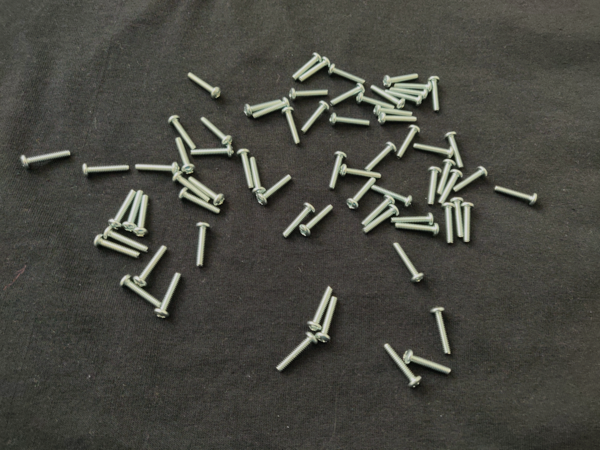longscrew: (276, 331, 319, 375), (384, 343, 423, 389), (133, 246, 169, 288), (119, 275, 162, 310), (154, 272, 183, 320), (392, 242, 425, 284), (403, 349, 453, 376), (172, 171, 212, 204), (103, 226, 149, 254), (307, 285, 334, 332), (282, 203, 316, 240), (188, 175, 227, 207), (179, 187, 222, 216), (299, 203, 334, 238), (94, 234, 141, 260), (361, 204, 400, 235), (430, 307, 454, 357), (107, 189, 136, 230), (361, 195, 396, 228), (315, 296, 339, 344), (256, 174, 292, 206), (371, 184, 415, 209), (168, 115, 198, 151), (346, 177, 377, 211), (364, 141, 398, 172), (300, 101, 331, 135), (187, 71, 222, 101), (200, 117, 234, 147), (19, 150, 72, 169), (495, 184, 540, 206), (252, 96, 291, 121), (438, 169, 465, 205), (453, 166, 489, 193), (122, 190, 144, 233), (291, 52, 323, 81), (330, 83, 367, 108), (371, 84, 406, 110), (397, 125, 422, 161), (328, 63, 367, 86), (298, 56, 331, 83), (174, 137, 197, 175), (443, 131, 465, 169), (395, 221, 440, 239), (436, 159, 457, 197), (328, 151, 348, 190), (385, 88, 424, 108), (247, 157, 267, 196), (282, 107, 302, 145), (244, 99, 282, 119), (413, 142, 455, 160), (195, 221, 211, 268), (237, 148, 255, 189), (133, 195, 150, 238), (356, 92, 396, 110), (329, 112, 371, 129), (340, 164, 383, 180), (190, 145, 235, 160), (135, 160, 180, 175), (391, 212, 435, 227), (289, 86, 330, 102), (461, 202, 476, 245), (441, 202, 456, 245), (427, 166, 443, 206), (382, 72, 419, 89), (450, 198, 465, 239), (389, 86, 429, 101), (81, 163, 131, 175), (373, 104, 414, 118), (428, 75, 443, 113), (377, 112, 419, 125), (393, 80, 432, 94)
